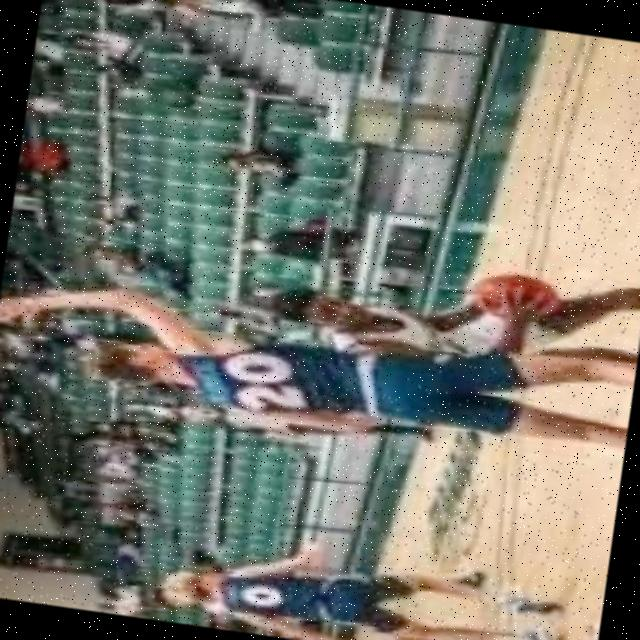ball: (455, 264, 564, 339)
